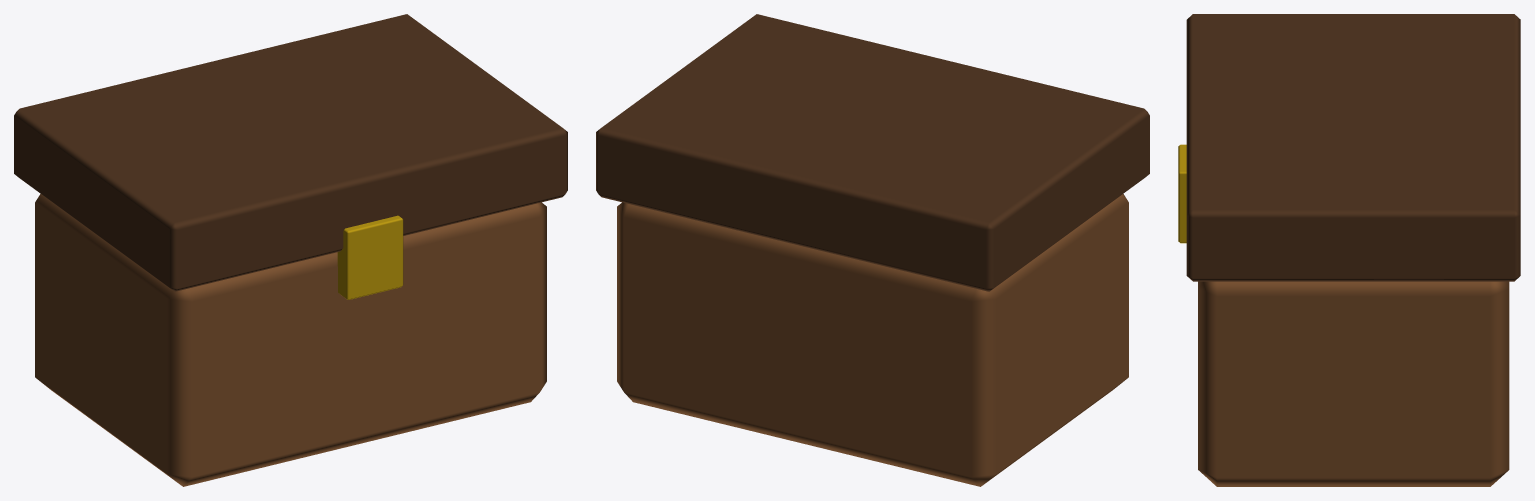
The model's file is chest.b1f0fbb6.glb.
3 views of the same model, side by side, from view 1: azimuth 30°, elevation 25°; view 2: azimuth 150°, elevation 25°; view 3: azimuth 270°, elevation 25° (orthographic). The views are drawn at different scales.
Visible parts, largest first — view 1: body; view 2: body; view 3: body.
Part boxes in pixels (<box>): body: <box>14,14,567,486</box>; body: <box>596,14,1149,486</box>; body: <box>1178,14,1520,486</box>.
Size of the model in its own units: 0.84 by 0.56 by 0.605.
